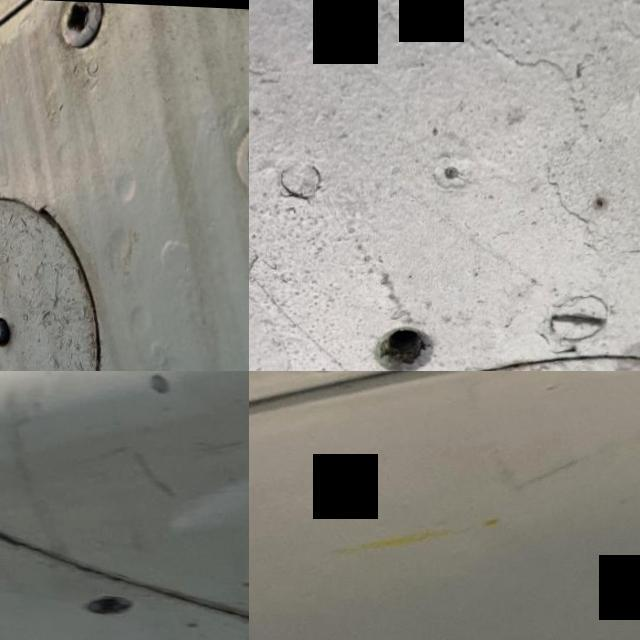Dent: (568, 371, 640, 386)
Missing_Fastener: (339, 282, 480, 371), (82, 590, 140, 620)
